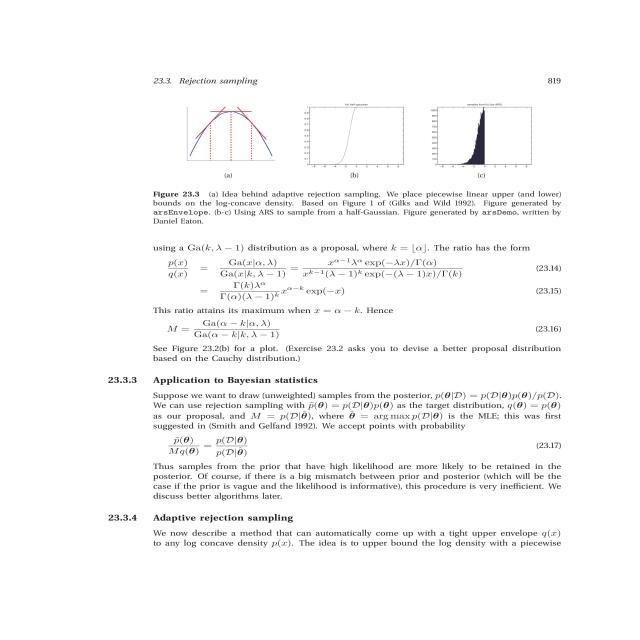diagram: (73, 95, 640, 226)
